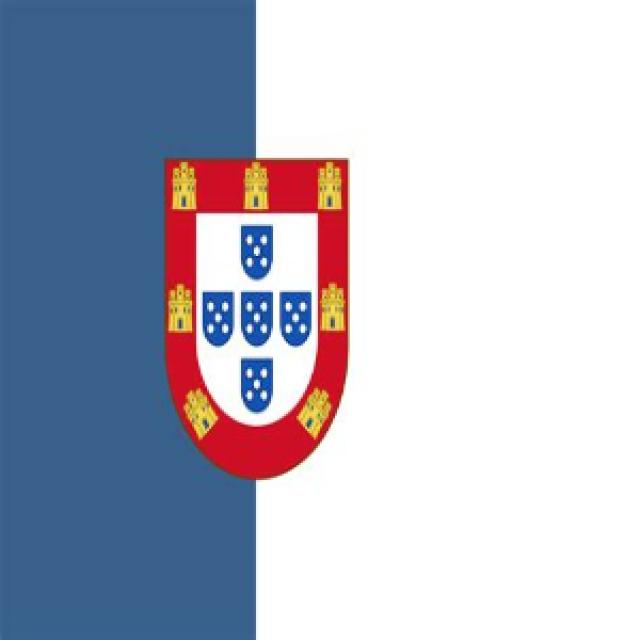portugal: (51, 26, 487, 448)
